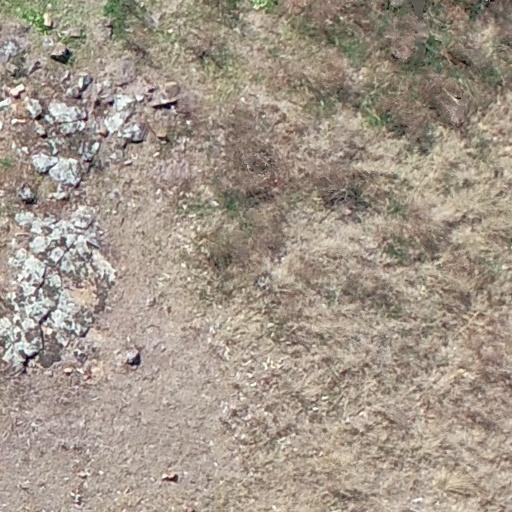stone: (49, 42, 69, 64), (123, 342, 138, 366), (94, 124, 114, 141), (26, 185, 38, 202), (34, 126, 48, 140), (12, 87, 27, 99), (42, 370, 57, 381), (73, 489, 84, 504), (78, 468, 88, 480), (158, 130, 167, 143), (64, 366, 72, 373), (160, 474, 176, 476)
